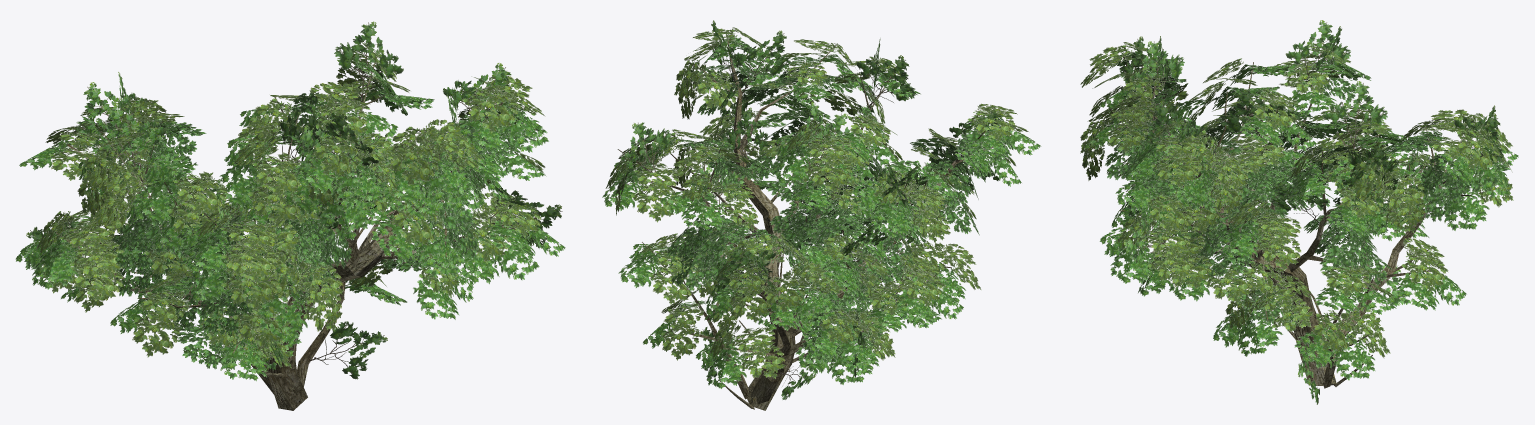
The model's file is razshrub.dae.
The picture shows the model from 3 angles, left to right: view 1: azimuth 30°, elevation 25°; view 2: azimuth 150°, elevation 25°; view 3: azimuth 270°, elevation 25°; orthographic projection. The views are drawn at different scales.
Visible parts, largest first — view 1: leaf, bark; view 2: leaf, bark; view 3: leaf, bark.
Part boxes in pixels (<box>): leaf: <box>15,21,565,381</box>; bark: <box>56,50,536,410</box>; leaf: <box>602,20,1041,399</box>; bark: <box>617,34,993,410</box>; leaf: <box>1080,20,1518,404</box>; bark: <box>1103,49,1483,388</box>.
Bounding box in the file's own units: 1.83 × 1.9 × 1.56.
2 materials, 2 textured.
